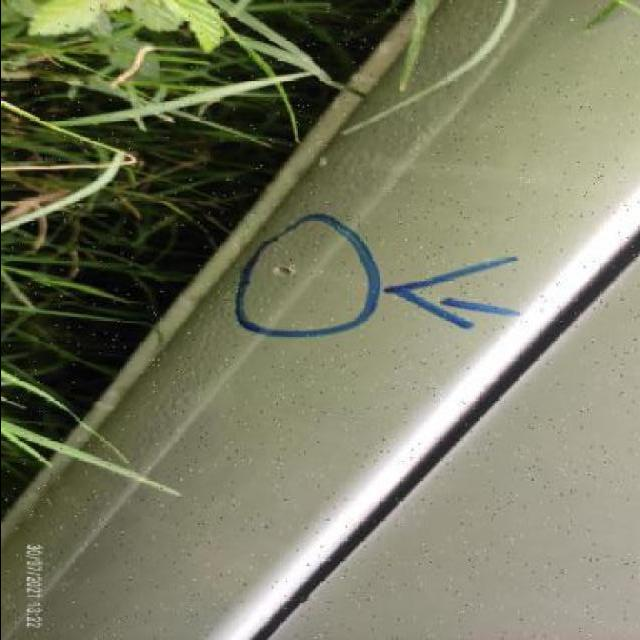RunningBoard-Dent: (74, 181, 635, 513)
